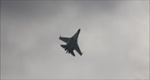maybay_muctieu: (59, 25, 83, 56)
